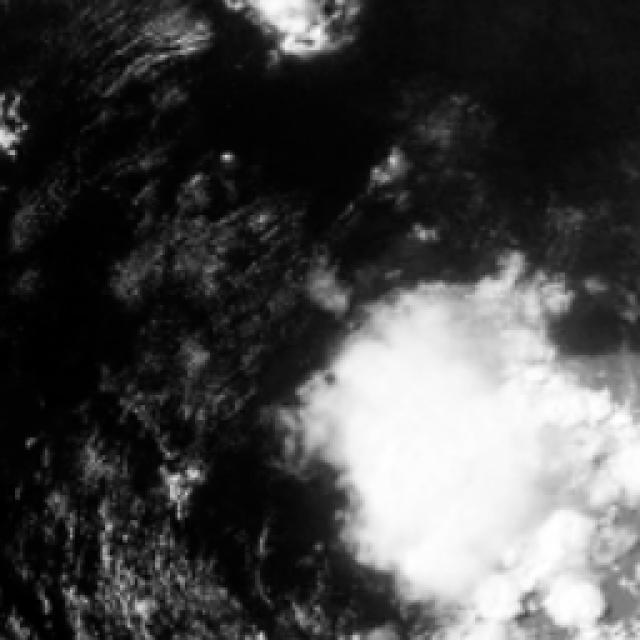CB: (368, 345, 533, 546)
